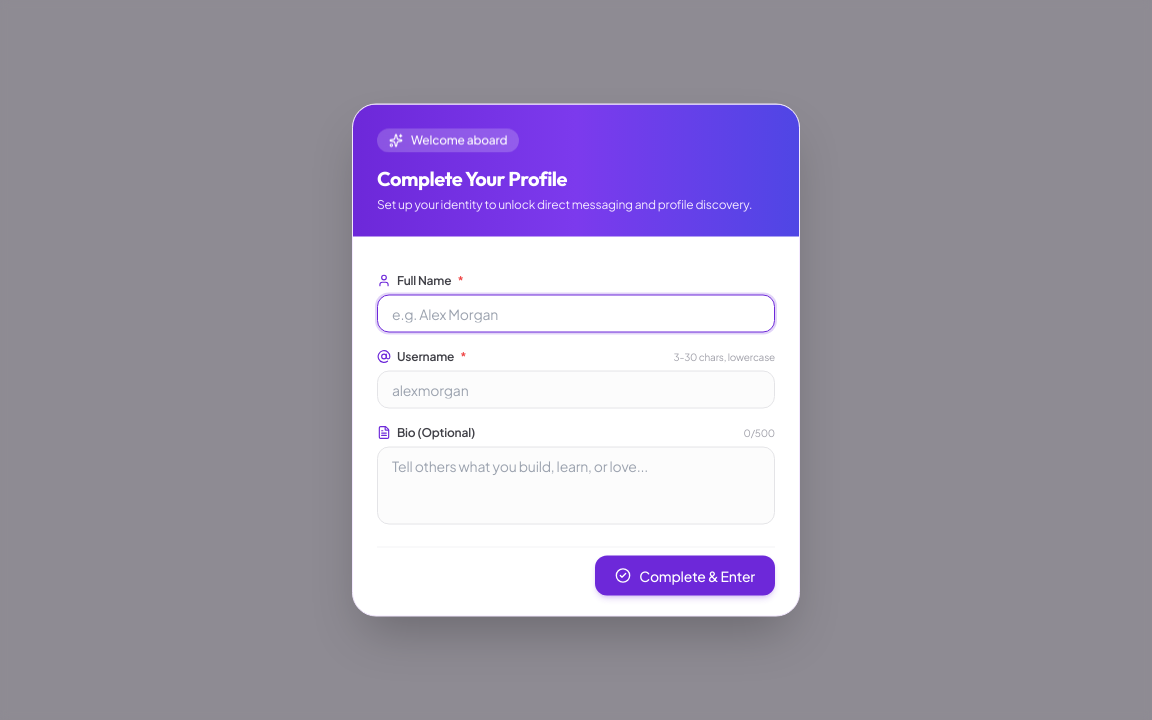
OnboardingDialog Component › validates that username cannot contain spaces or invalid characters
Type "John Doe" into the field labelled "Full Name *" at (576, 314), box [377,294,775,332]
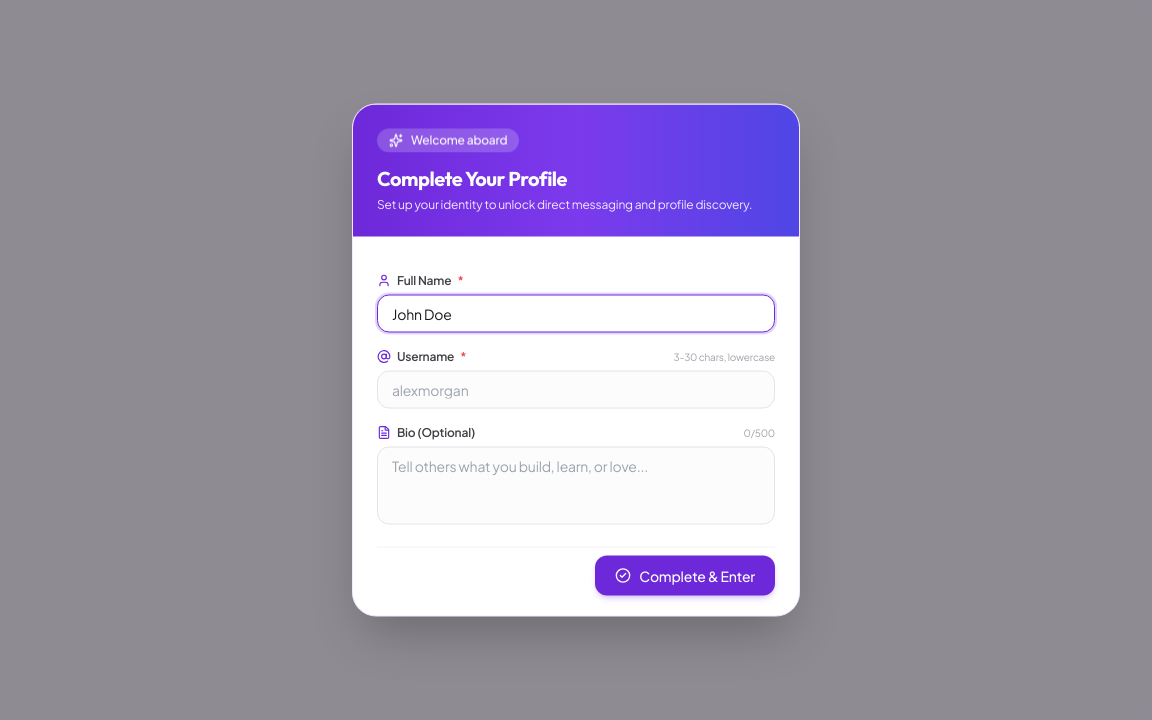
Type "ab" into the field labelled "Username *" at (576, 390), box [377,370,775,408]
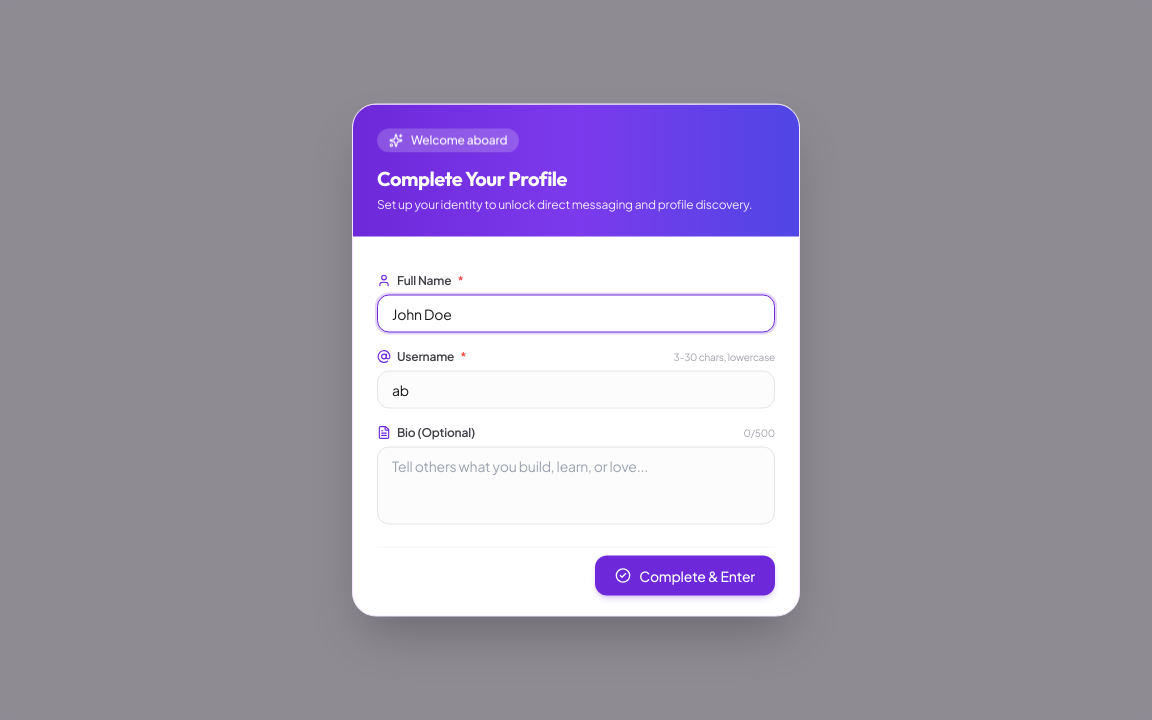
Click the button "Complete & Enter" at (685, 576), box [595,556,775,596]
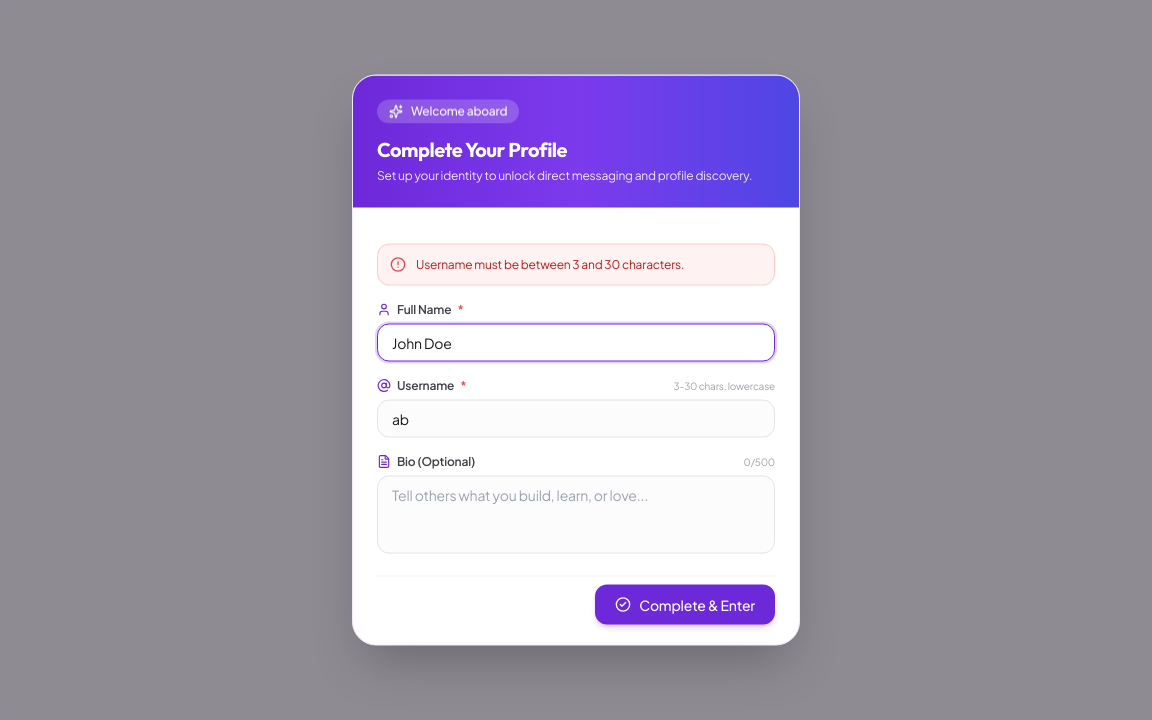
Now the text "Username must be between 3 and 30 characters." is shown, box [416,256,684,272]
